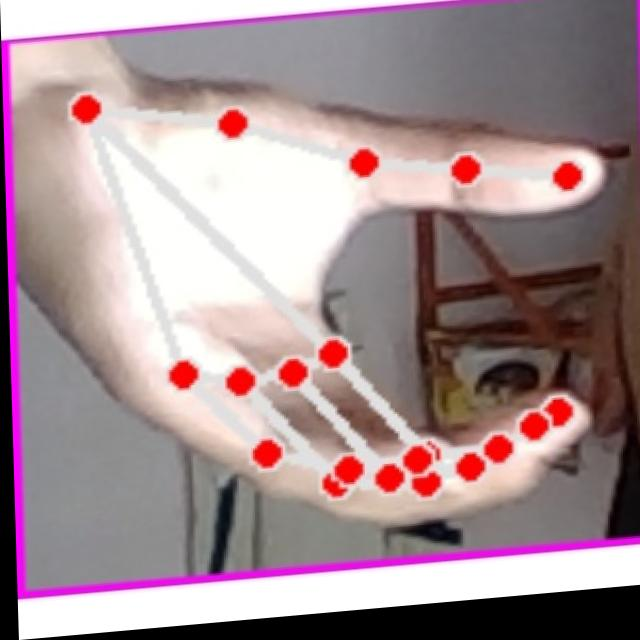C: (17, 31, 638, 575)
